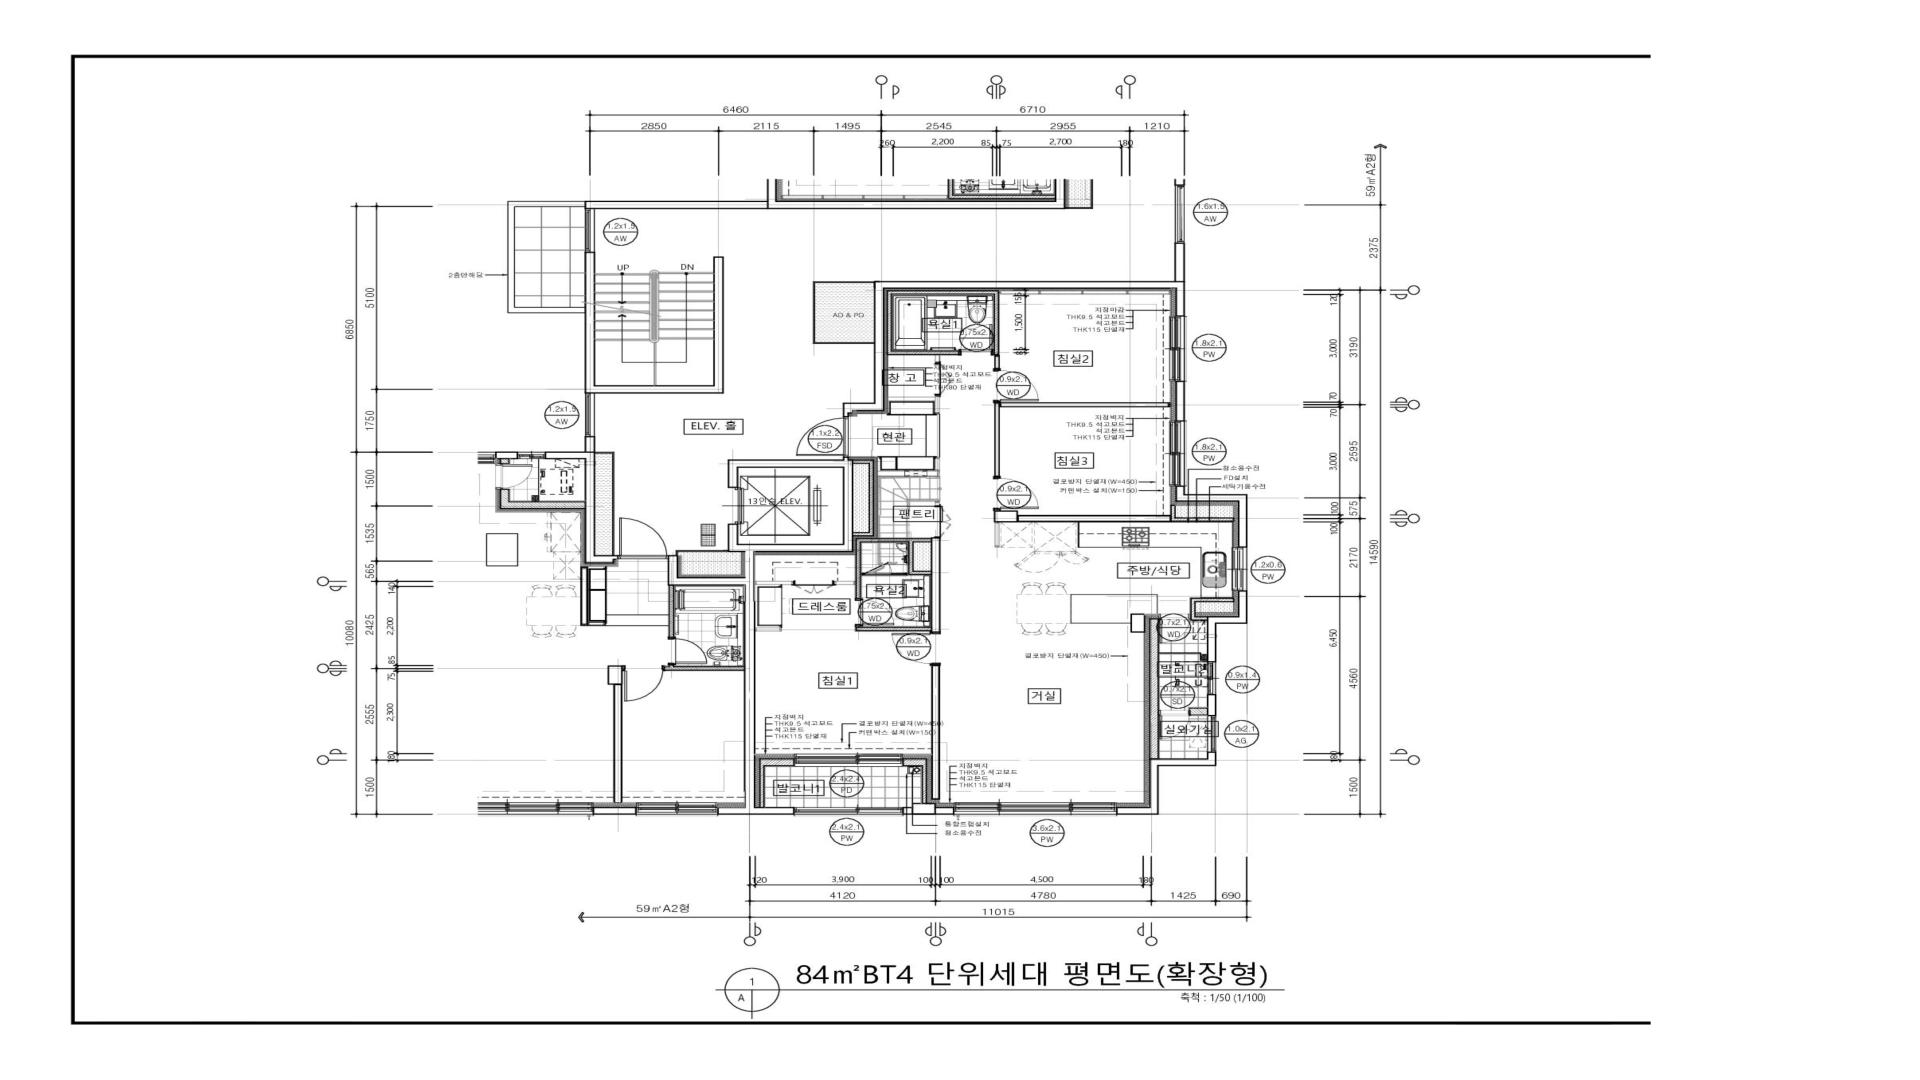door: (796, 417, 849, 456), (891, 632, 942, 665), (993, 476, 1039, 510), (993, 371, 1039, 402), (855, 599, 894, 626), (959, 324, 994, 355), (1159, 709, 1189, 740), (1159, 618, 1189, 644), (935, 361, 952, 397), (793, 580, 833, 595), (934, 505, 952, 537), (861, 562, 891, 575)
wall: (667, 456, 853, 815), (843, 244, 1185, 417), (584, 252, 724, 393), (584, 179, 1065, 210), (545, 436, 618, 563), (1117, 752, 1216, 815), (1175, 485, 1247, 547), (812, 281, 874, 344), (1207, 591, 1247, 662), (994, 510, 1171, 522), (595, 451, 615, 555), (1149, 618, 1159, 758), (931, 665, 940, 799), (1000, 402, 1171, 407), (931, 537, 940, 632), (903, 803, 953, 815), (886, 290, 1000, 294), (1175, 381, 1185, 421), (856, 626, 931, 632), (878, 471, 938, 477), (994, 402, 1000, 476), (869, 464, 874, 533), (994, 294, 1000, 355), (1176, 517, 1234, 522), (886, 294, 891, 351), (856, 542, 861, 599), (856, 538, 930, 542), (887, 351, 959, 355), (675, 550, 728, 555), (760, 758, 794, 766), (887, 396, 935, 401), (1189, 597, 1234, 603), (760, 766, 765, 807), (1207, 695, 1216, 716), (756, 580, 793, 585), (922, 766, 927, 803), (903, 758, 927, 766), (909, 542, 914, 571), (1189, 603, 1196, 621), (1189, 708, 1207, 715), (833, 580, 855, 585), (853, 459, 874, 464), (756, 628, 782, 632), (1171, 505, 1176, 522), (935, 397, 940, 414), (938, 471, 940, 505), (909, 571, 931, 575), (853, 533, 874, 537), (994, 355, 1000, 369), (935, 458, 940, 471), (891, 572, 907, 576), (1174, 179, 1185, 185), (1196, 616, 1207, 621), (935, 355, 940, 361)
window: (953, 802, 1117, 815), (794, 753, 903, 767), (1170, 421, 1185, 487), (1170, 316, 1185, 381), (794, 807, 903, 815), (1232, 547, 1247, 591), (1175, 185, 1184, 244), (585, 393, 595, 436), (585, 210, 595, 252), (1207, 716, 1216, 752), (1207, 662, 1216, 695)
